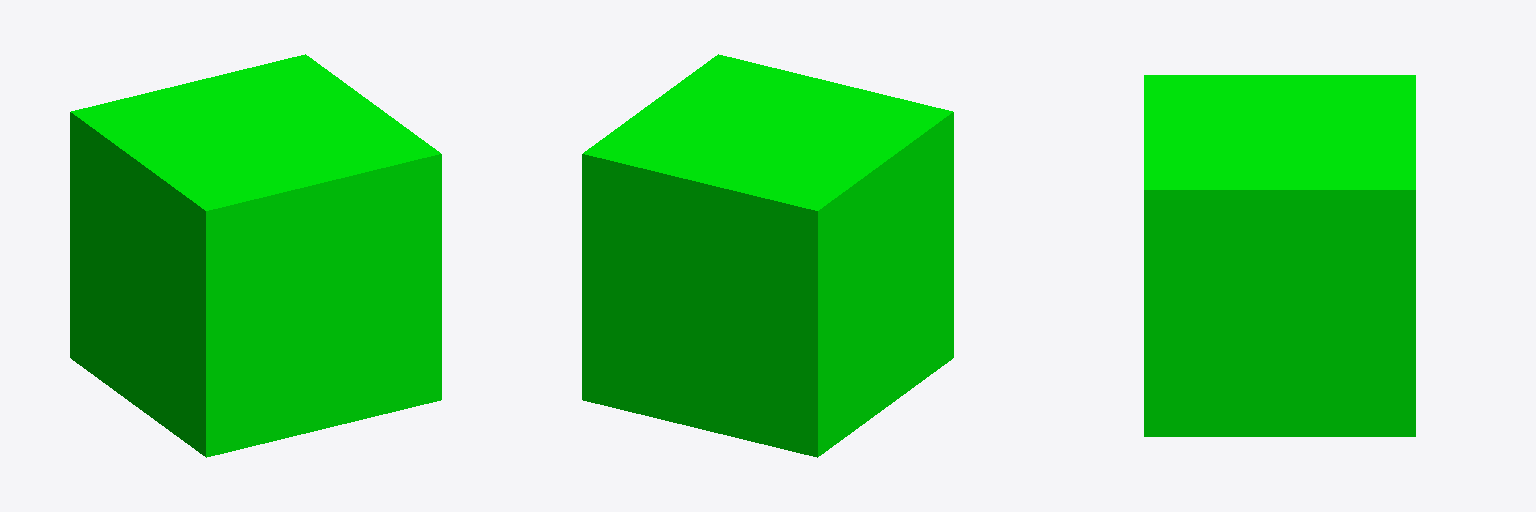
3 views of the same model, side by side, from view 1: azimuth 30°, elevation 25°; view 2: azimuth 150°, elevation 25°; view 3: azimuth 270°, elevation 25° (orthographic).
Parts seen in each view (by area): view 1: Cube; view 2: Cube; view 3: Cube.
Part boxes in pixels (bbox=[...]): Cube: bbox=[70, 54, 441, 457]; Cube: bbox=[582, 54, 953, 457]; Cube: bbox=[1144, 75, 1415, 436].
Size of the model in its own units: 2 by 2 by 2.
Materials: 1 (1 with a texture image).